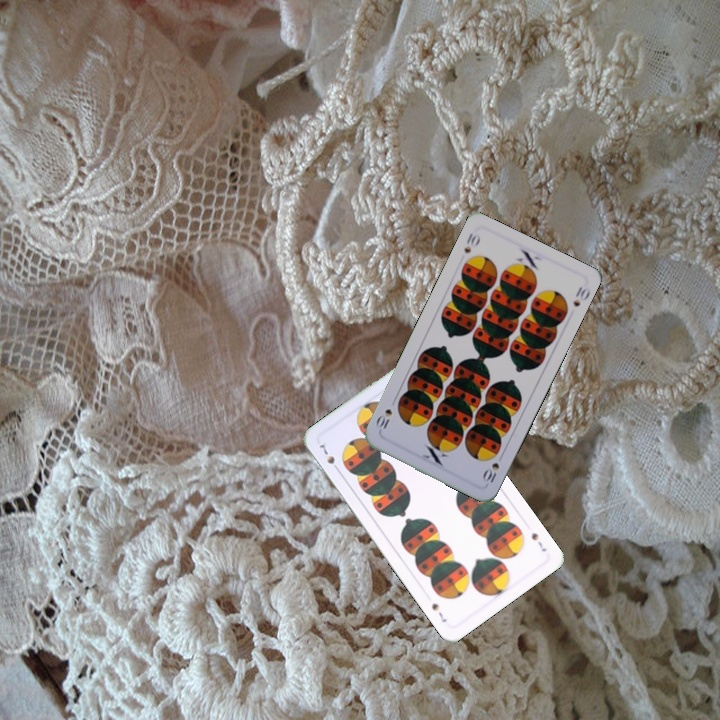S10: (478, 449, 506, 487), (460, 229, 483, 256)
S7: (315, 440, 342, 474), (527, 529, 549, 554)
